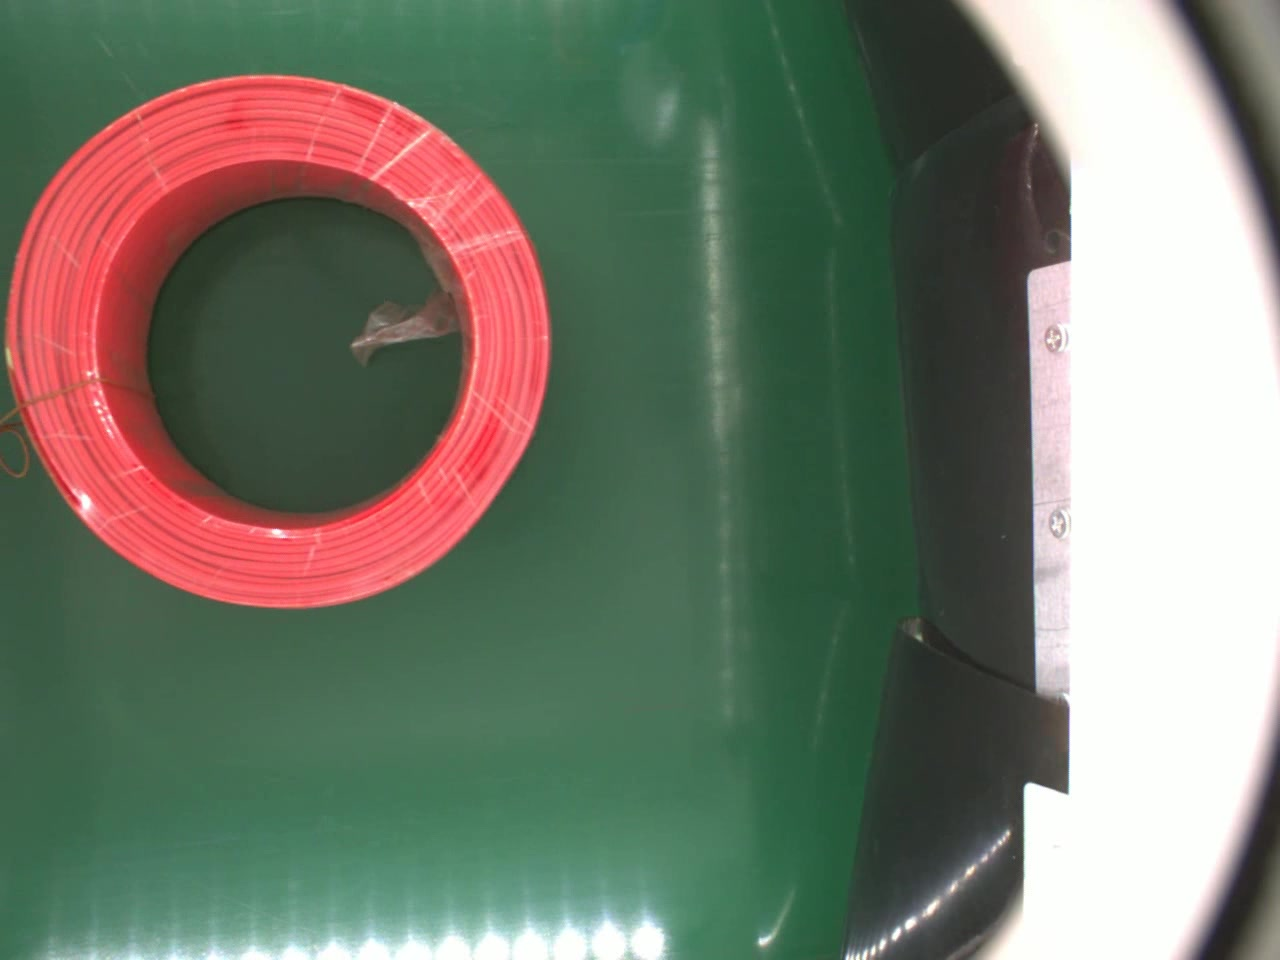red: (4, 69, 554, 616)
